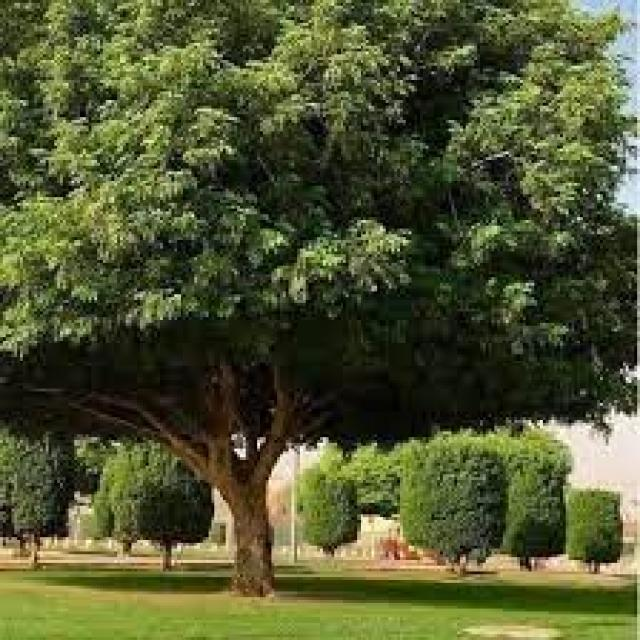tree: (2, 2, 634, 598), (109, 426, 214, 578), (398, 446, 506, 574), (3, 431, 80, 566), (500, 457, 566, 572), (563, 486, 623, 574), (300, 474, 357, 560), (91, 454, 138, 552)
